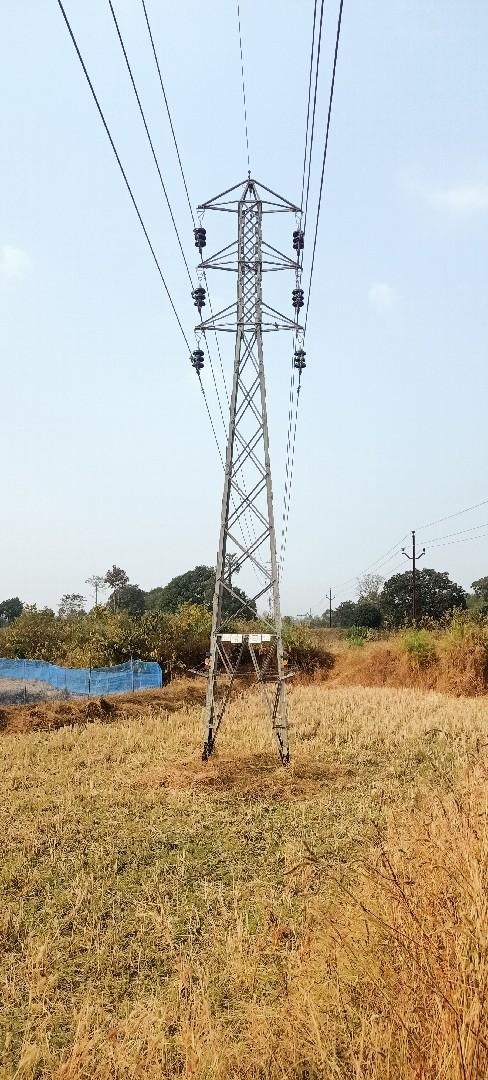GSM Antenna: (180, 172, 314, 723)
